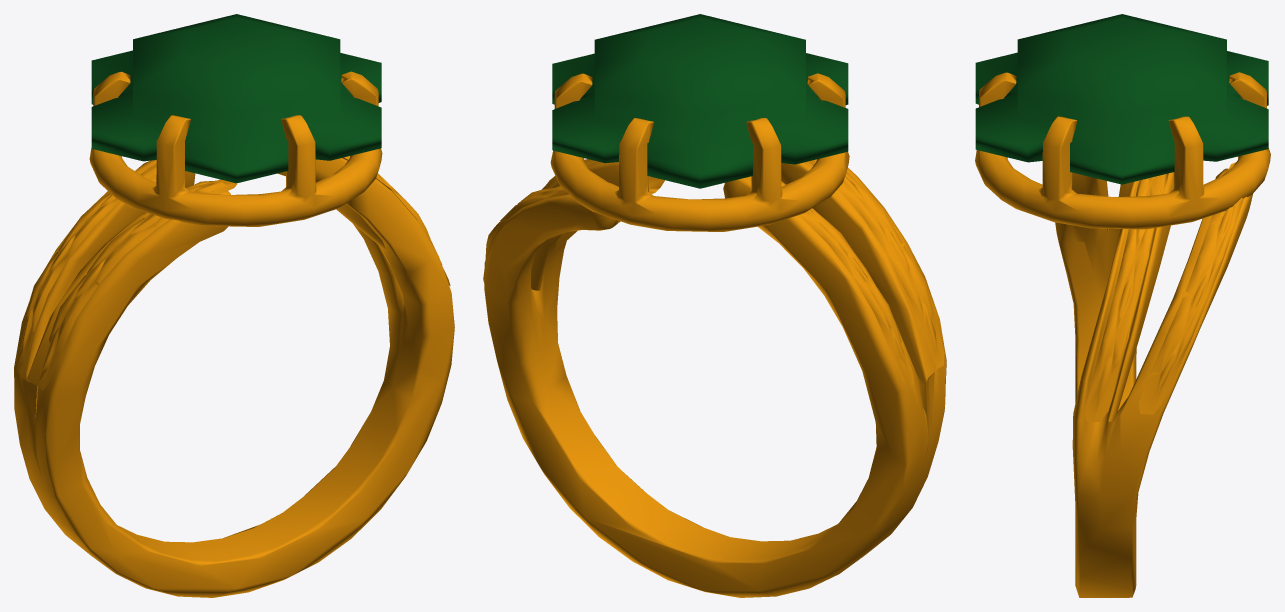
3 renders of one model, left to right at view 1: azimuth 30°, elevation 25°; view 2: azimuth 150°, elevation 25°; view 3: azimuth 270°, elevation 25°, orthographic. The views are drawn at different scales.
Parts seen in each view (by area): view 1: 2; view 2: 2; view 3: 2.
Boxes of the visible parts, x1,y1,x2,y2 form: 2: (14, 14, 454, 597); 2: (483, 14, 946, 597); 2: (975, 14, 1270, 597).
Size of the model in its own units: 5.47 by 6.67 by 3.33.
